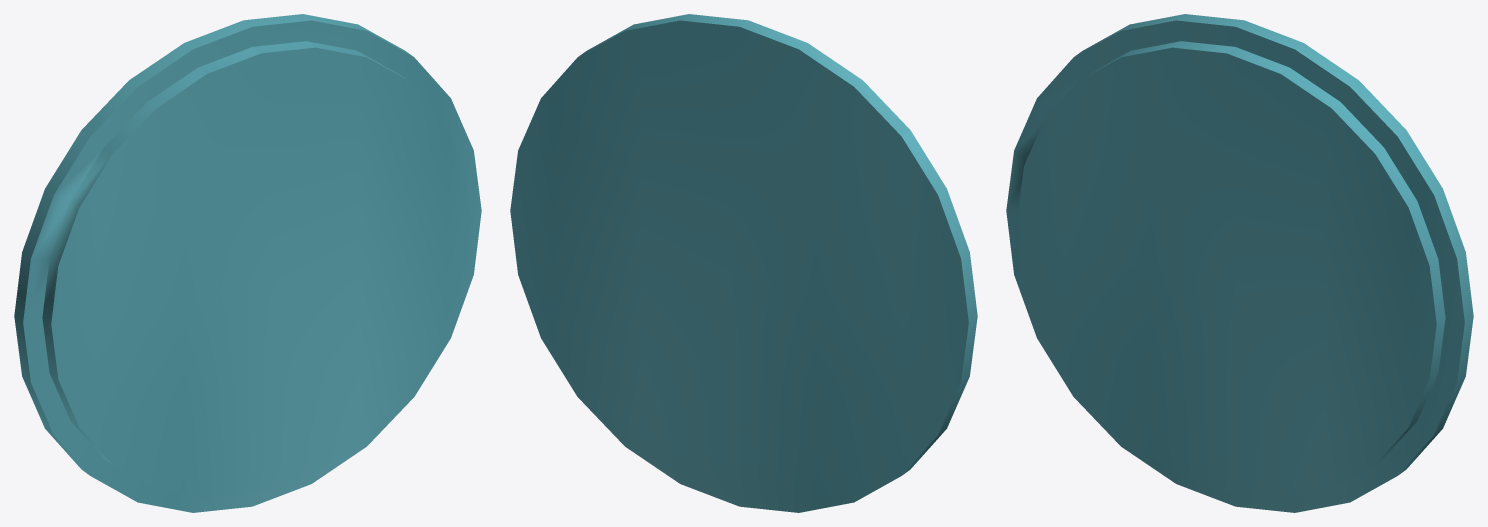
The model's file is original-7.obj.
The picture shows the model from 3 angles, left to right: view 1: azimuth 30°, elevation 25°; view 2: azimuth 150°, elevation 25°; view 3: azimuth 330°, elevation 25°; orthographic projection.
Parts seen in each view (by area): view 1: Group7/mesh26/mesh26-geometry#mesh26-geometry; view 2: Group7/mesh26/mesh26-geometry#mesh26-geometry; view 3: Group7/mesh26/mesh26-geometry#mesh26-geometry.
Boxes of the visible parts, x1=… form: Group7/mesh26/mesh26-geometry#mesh26-geometry: x1=14, y1=14, x2=481, y2=512; Group7/mesh26/mesh26-geometry#mesh26-geometry: x1=510, y1=14, x2=977, y2=512; Group7/mesh26/mesh26-geometry#mesh26-geometry: x1=1006, y1=14, x2=1473, y2=512.
Bounding box in the file's own units: 0.5397 × 0.5397 × 0.036.
